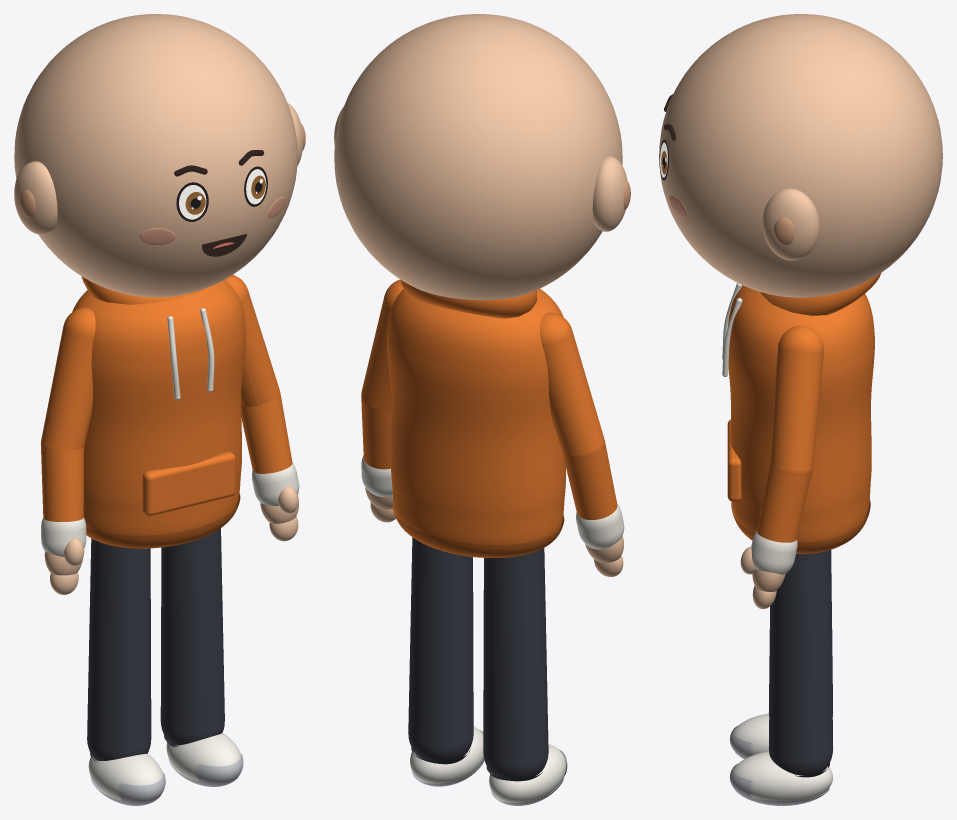
File: hoofdpersonage_kind.glb
The picture shows the model from 3 angles, left to right: view 1: azimuth 30°, elevation 25°; view 2: azimuth 150°, elevation 25°; view 3: azimuth 270°, elevation 25°; orthographic projection.
Visible parts, largest first — view 1: hoofdpersonage_kind_hoofd, hoofdpersonage_kind_romp, hoofdpersonage_kind_been_R, hoofdpersonage_kind_been_L, hoofdpersonage_kind_bovenarm_R, hoofdpersonage_kind_buidelzak, hoofdpersonage_kind_onderarm_R, hoofdpersonage_kind_onderarm_L, hoofdpersonage_kind_bovenarm_L, hoofdpersonage_kind_oor_R, hoofdpersonage_kind_schoen_R, hoofdpersonage_kind_schoen_L (+8 smaller); view 2: hoofdpersonage_kind_hoofd, hoofdpersonage_kind_romp, hoofdpersonage_kind_been_R, hoofdpersonage_kind_been_L, hoofdpersonage_kind_bovenarm_R, hoofdpersonage_kind_onderarm_R, hoofdpersonage_kind_bovenarm_L, hoofdpersonage_kind_oor_R, hoofdpersonage_kind_capuchon, hoofdpersonage_kind_schoen_R, hoofdpersonage_kind_romp_boord, hoofdpersonage_kind_schoen_L (+4 smaller); view 3: hoofdpersonage_kind_hoofd, hoofdpersonage_kind_romp, hoofdpersonage_kind_been_L, hoofdpersonage_kind_bovenarm_L, hoofdpersonage_kind_onderarm_L, hoofdpersonage_kind_schoen_L, hoofdpersonage_kind_oor_L, hoofdpersonage_kind_capuchon, hoofdpersonage_kind_manchet_L, hoofdpersonage_kind_schoen_R, hoofdpersonage_kind_romp_boord, hoofdpersonage_kind_buidelzak (+1 smaller).
Boxes of the visible parts, <box> form: hoofdpersonage_kind_hoofd: <box>14,14,297,297</box>; hoofdpersonage_kind_romp: <box>72,280,245,535</box>; hoofdpersonage_kind_been_R: <box>87,538,151,760</box>; hoofdpersonage_kind_been_L: <box>160,528,224,745</box>; hoofdpersonage_kind_bovenarm_R: <box>41,307,95,450</box>; hoofdpersonage_kind_buidelzak: <box>142,451,235,516</box>; hoofdpersonage_kind_onderarm_R: <box>41,443,84,521</box>; hoofdpersonage_kind_onderarm_L: <box>241,393,292,473</box>; hoofdpersonage_kind_bovenarm_L: <box>225,275,279,406</box>; hoofdpersonage_kind_oor_R: <box>14,161,57,234</box>; hoofdpersonage_kind_schoen_R: <box>88,753,163,800</box>; hoofdpersonage_kind_schoen_L: <box>166,732,241,781</box>; hoofdpersonage_kind_hoofd: <box>334,14,622,300</box>; hoofdpersonage_kind_romp: <box>387,288,565,544</box>; hoofdpersonage_kind_been_R: <box>483,548,548,779</box>; hoofdpersonage_kind_been_L: <box>408,537,473,761</box>; hoofdpersonage_kind_bovenarm_R: <box>540,312,604,457</box>; hoofdpersonage_kind_onderarm_R: <box>562,442,617,519</box>; hoofdpersonage_kind_bovenarm_L: <box>361,279,403,409</box>; hoofdpersonage_kind_oor_R: <box>592,156,627,231</box>; hoofdpersonage_kind_capuchon: <box>400,280,537,318</box>; hoofdpersonage_kind_schoen_R: <box>489,744,566,803</box>; hoofdpersonage_kind_romp_boord: <box>392,502,564,557</box>; hoofdpersonage_kind_schoen_L: <box>410,726,483,783</box>; hoofdpersonage_kind_hoofd: <box>659,14,942,297</box>; hoofdpersonage_kind_romp: <box>728,285,874,542</box>; hoofdpersonage_kind_been_L: <box>768,550,833,775</box>; hoofdpersonage_kind_bovenarm_L: <box>770,325,823,474</box>; hoofdpersonage_kind_onderarm_L: <box>757,463,812,542</box>; hoofdpersonage_kind_schoen_L: <box>732,751,832,801</box>; hoofdpersonage_kind_oor_L: <box>762,188,819,260</box>; hoofdpersonage_kind_capuchon: <box>760,273,881,315</box>; hoofdpersonage_kind_manchet_L: <box>751,531,797,574</box>; hoofdpersonage_kind_schoen_R: <box>732,713,769,756</box>; hoofdpersonage_kind_romp_boord: <box>731,499,870,554</box>; hoofdpersonage_kind_buidelzak: <box>727,419,741,501</box>.
Size of the model in its own units: 0.6887 by 1.76 by 0.6.
